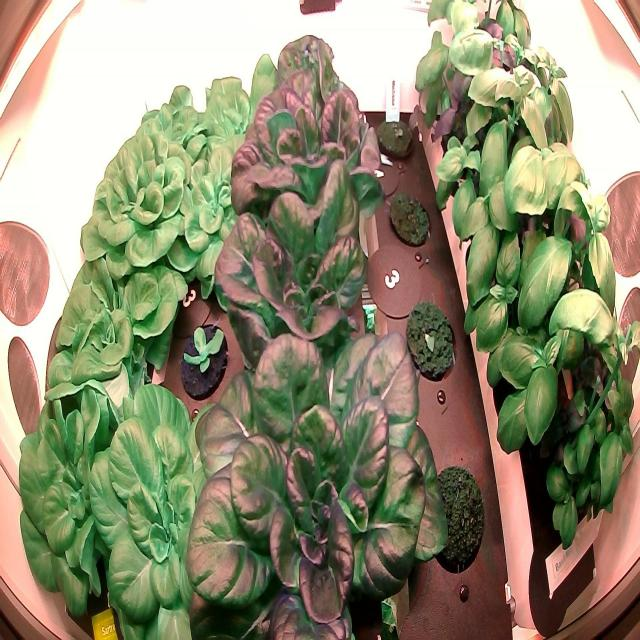Ready: (178, 286, 458, 638), (204, 142, 394, 372), (219, 56, 394, 219), (15, 394, 126, 624), (44, 252, 188, 419), (80, 132, 202, 274), (251, 20, 379, 147), (123, 84, 212, 190)
germination: (370, 106, 431, 165)
pod: (427, 458, 488, 576), (396, 291, 463, 388), (384, 181, 434, 252)
young: (87, 380, 239, 640), (174, 147, 260, 300), (195, 52, 281, 175), (176, 317, 232, 403)
